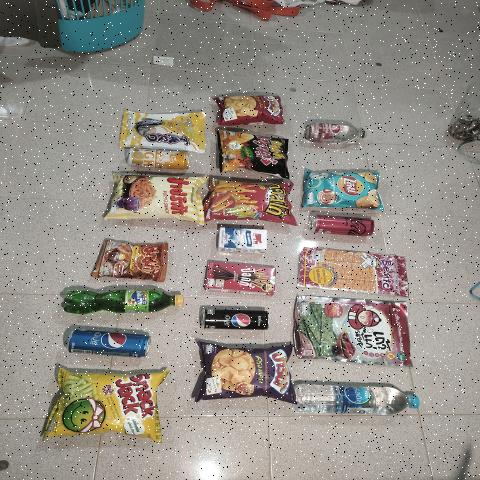bento_red: (296, 247, 414, 296)
coke_red: (308, 215, 379, 242)
crystal: (291, 375, 427, 427)
fanta_green: (63, 286, 184, 320)
karamujo: (220, 129, 291, 173)
lay_blue: (302, 169, 381, 208)
mama: (90, 240, 170, 276)
paprika: (115, 174, 200, 220)
party_purple: (193, 340, 289, 402)
party_red: (218, 90, 286, 123)
pepsi_black: (195, 306, 274, 334)
pepsi_blue: (55, 326, 153, 359)
pokki: (206, 264, 278, 291)
singha_soda: (303, 119, 369, 147)
singha_yellow: (123, 146, 196, 174)
snack_jack: (54, 366, 158, 445)
taokaenoi: (298, 295, 414, 366)
taro_yellow: (123, 109, 206, 146)
thai_denmark: (217, 227, 266, 247)
twisco: (203, 180, 301, 228)
